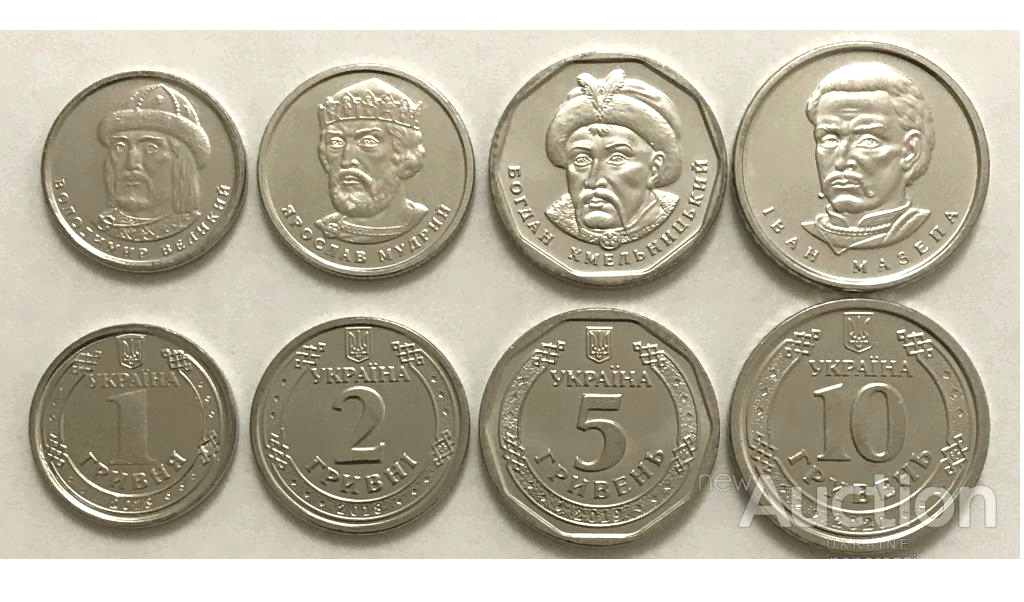coin_10_bn: (731, 297, 988, 556), (734, 47, 992, 288)
coin_1_bn: (41, 71, 248, 275), (31, 324, 237, 527)
coin_2_bn: (250, 314, 472, 534), (256, 65, 478, 276)
coin_5_bn: (483, 50, 729, 292), (478, 308, 724, 549)
